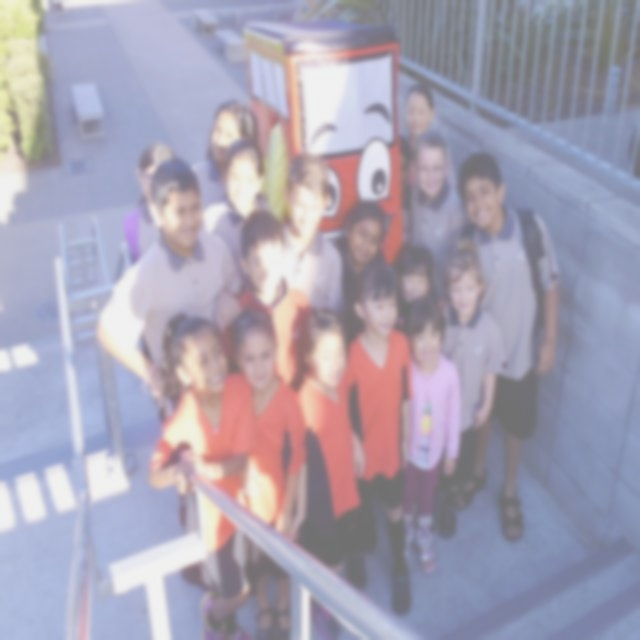pessoa: (452, 149, 564, 542), (94, 160, 242, 426), (144, 304, 255, 640), (333, 260, 416, 620), (286, 307, 367, 639), (228, 306, 308, 639), (392, 294, 464, 580), (433, 237, 509, 498), (216, 207, 315, 393), (197, 136, 274, 292), (407, 127, 472, 306), (280, 150, 346, 319), (188, 96, 262, 216), (121, 141, 177, 264), (403, 82, 461, 198), (332, 197, 389, 304), (388, 240, 440, 333), (262, 125, 290, 214), (398, 132, 417, 246)
